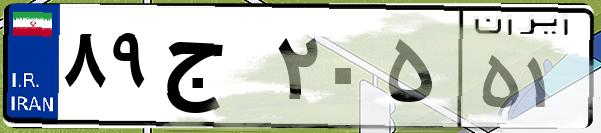0: (330, 28, 385, 110)
1: (525, 38, 570, 115)
2: (270, 28, 330, 110)
5: (385, 28, 445, 110), (475, 38, 525, 113)
8: (57, 26, 110, 100)
9: (110, 28, 158, 98)
ج: (158, 20, 270, 120)
